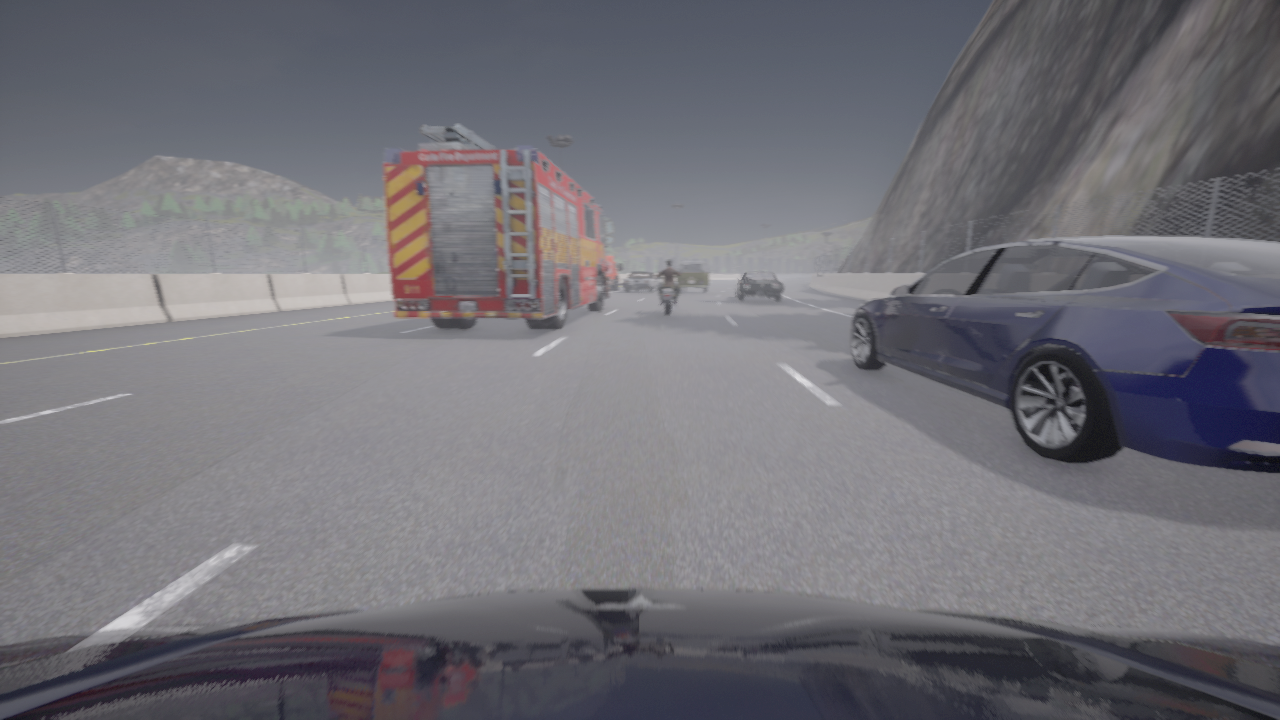cyclist: (0, 588, 1279, 719), (850, 236, 1279, 473), (384, 124, 613, 329), (735, 271, 782, 300), (677, 261, 710, 293), (657, 271, 678, 315), (622, 272, 661, 291), (606, 255, 621, 290)
